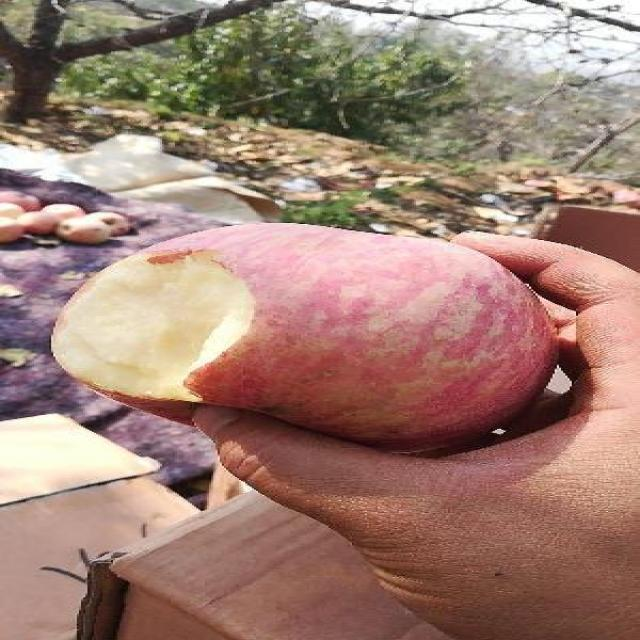Apple: (47, 207, 567, 452)
